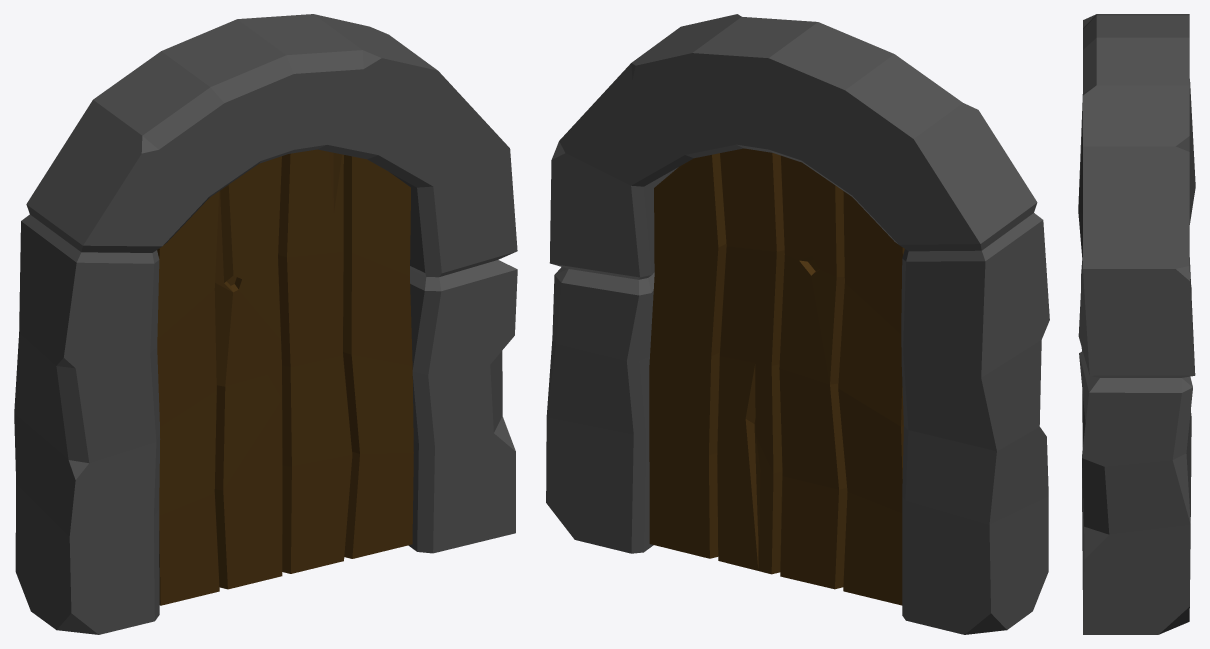
File: Door.fbx
3 views of the same model, side by side, from view 1: azimuth 30°, elevation 25°; view 2: azimuth 150°, elevation 25°; view 3: azimuth 270°, elevation 25° (orthographic). The views are drawn at different scales.
Parts seen in each view (by area): view 1: Door_Around, Door; view 2: Door_Around, Door; view 3: Door_Around.
Part boxes in pixels (<box>): Door_Around: <box>14,14,517,634</box>; Door: <box>157,149,413,605</box>; Door_Around: <box>546,14,1049,634</box>; Door: <box>649,148,904,605</box>; Door_Around: <box>1078,14,1195,634</box>.
Size of the model in its own units: 302 by 334 by 71.87.
